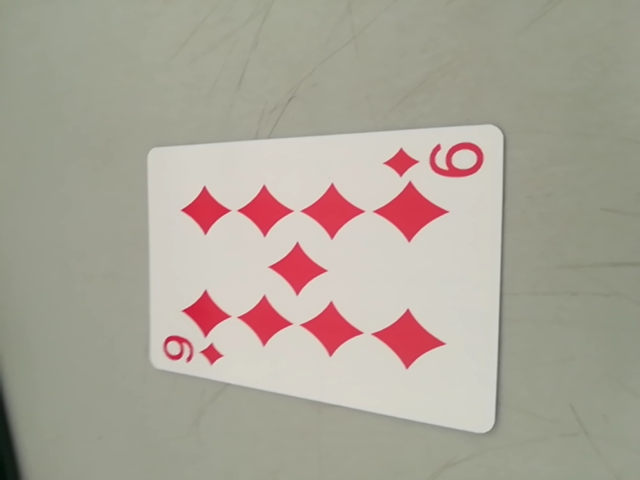fk 9: (385, 133, 490, 187), (157, 329, 233, 374)
